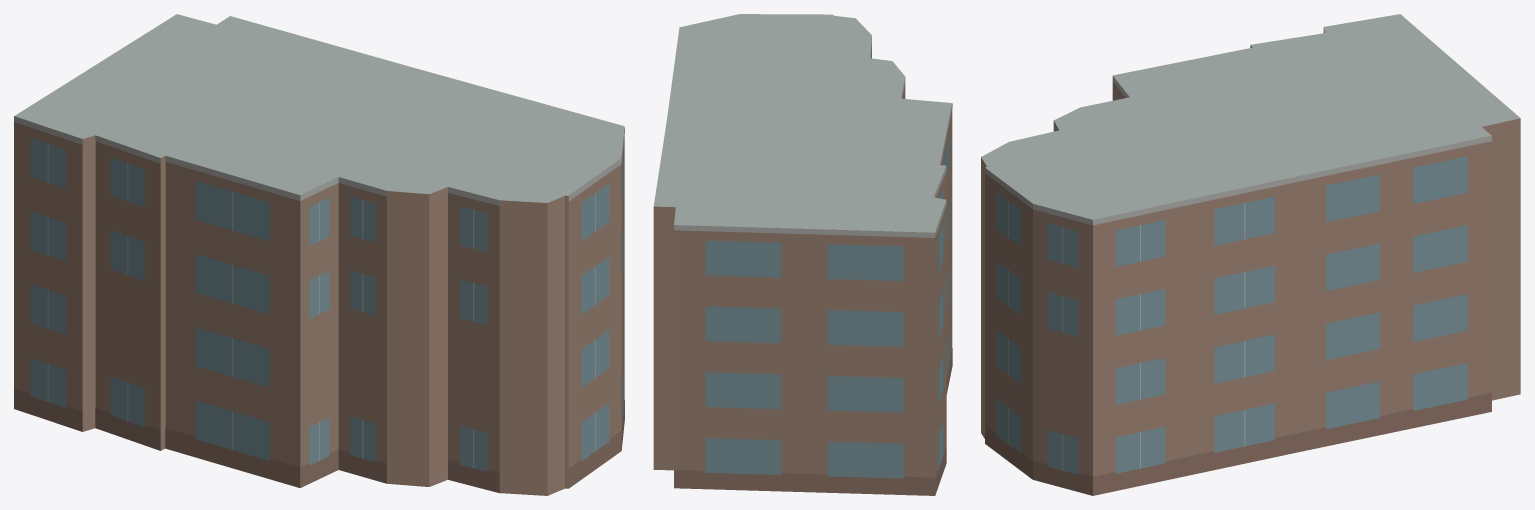
The model's file is survey-upis-32652612.glb.
The picture shows the model from 3 angles, left to right: view 1: azimuth 30°, elevation 25°; view 2: azimuth 150°, elevation 25°; view 3: azimuth 270°, elevation 25°; orthographic projection. The views are drawn at different scales.
Parts seen in each view (by area): view 1: survey-upis-32652612.tmp; view 2: survey-upis-32652612.tmp; view 3: survey-upis-32652612.tmp.
Part boxes in pixels (x1,y1,x2,y2): survey-upis-32652612.tmp: (14, 14, 624, 495); survey-upis-32652612.tmp: (653, 14, 952, 495); survey-upis-32652612.tmp: (981, 14, 1520, 495).
Bounding box in the file's own units: 19.52 × 12.2 × 21.63.
